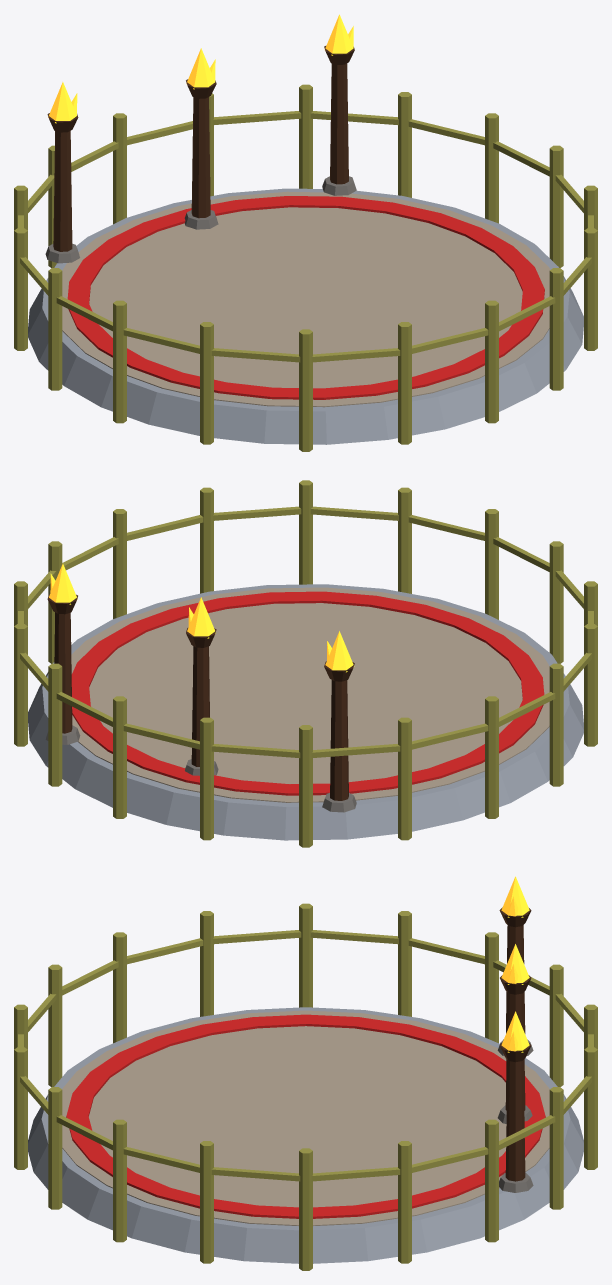
File: panggung_uji_v001.glb
The picture shows the model from 3 angles, top to bottom: view 1: azimuth 30°, elevation 25°; view 2: azimuth 150°, elevation 25°; view 3: azimuth 270°, elevation 25°; orthographic projection.
Visible parts, largest first — view 1: Arena_Uji, Pagar_Uji, Cincin_Aksen, Api_2_Nyala, Api_3_Nyala, Api_1_Nyala; view 2: Arena_Uji, Pagar_Uji, Cincin_Aksen, Api_2_Nyala, Api_3_Nyala, Api_1_Nyala; view 3: Arena_Uji, Pagar_Uji, Cincin_Aksen, Api_1_Nyala, Api_3_Nyala, Api_2_Nyala.
Part boxes in pixels (x1,y1,x2,y2): Arena_Uji: (28,46,583,444); Pagar_Uji: (14,84,597,451); Cincin_Aksen: (67,196,544,399); Api_2_Nyala: (186,48,215,89); Api_3_Nyala: (324,14,353,55); Api_1_Nyala: (48,82,77,123); Arena_Uji: (28,584,583,840); Pagar_Uji: (14,480,597,847); Cincin_Aksen: (71,591,544,795); Api_2_Nyala: (187,597,215,638); Api_3_Nyala: (49,563,77,604); Api_1_Nyala: (325,631,354,672); Arena_Uji: (28,907,583,1263); Pagar_Uji: (14,903,597,1270); Cincin_Aksen: (66,1014,545,1218); Api_1_Nyala: (501,876,529,917); Api_3_Nyala: (501,1011,529,1052); Api_2_Nyala: (501,944,529,984).
Bounding box in the file's own units: 5.92 × 2.24 × 5.85.
